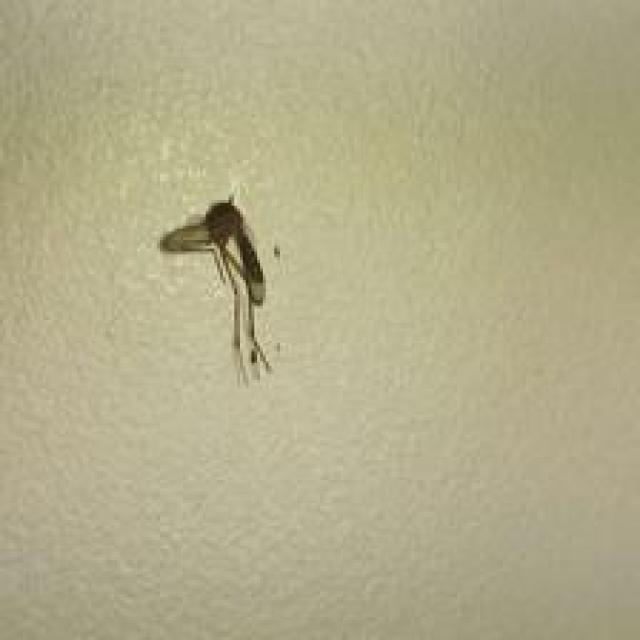Culex: (158, 191, 282, 386)
